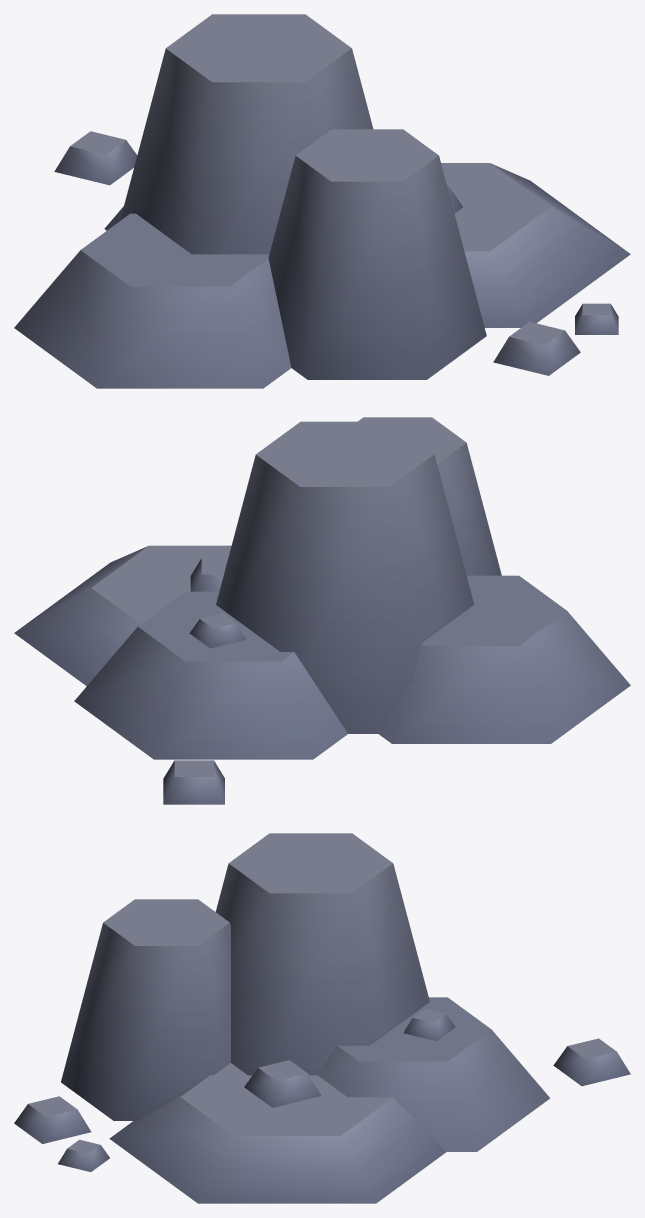
The model's file is boulder.glb.
3 views of the same model, one above another, from view 1: azimuth 30°, elevation 25°; view 2: azimuth 150°, elevation 25°; view 3: azimuth 270°, elevation 25° (orthographic). The views are drawn at different scales.
Parts seen in each view (by area): view 1: rocks-large; view 2: rocks-large; view 3: rocks-large.
Boxes of the visible parts, <box> form: rocks-large: <box>14,14,630,388</box>; rocks-large: <box>14,417,630,804</box>; rocks-large: <box>14,833,630,1203</box>.
Bounding box in the file's own units: 1.2 × 0.5 × 1.35.
1 material, 1 textured.
